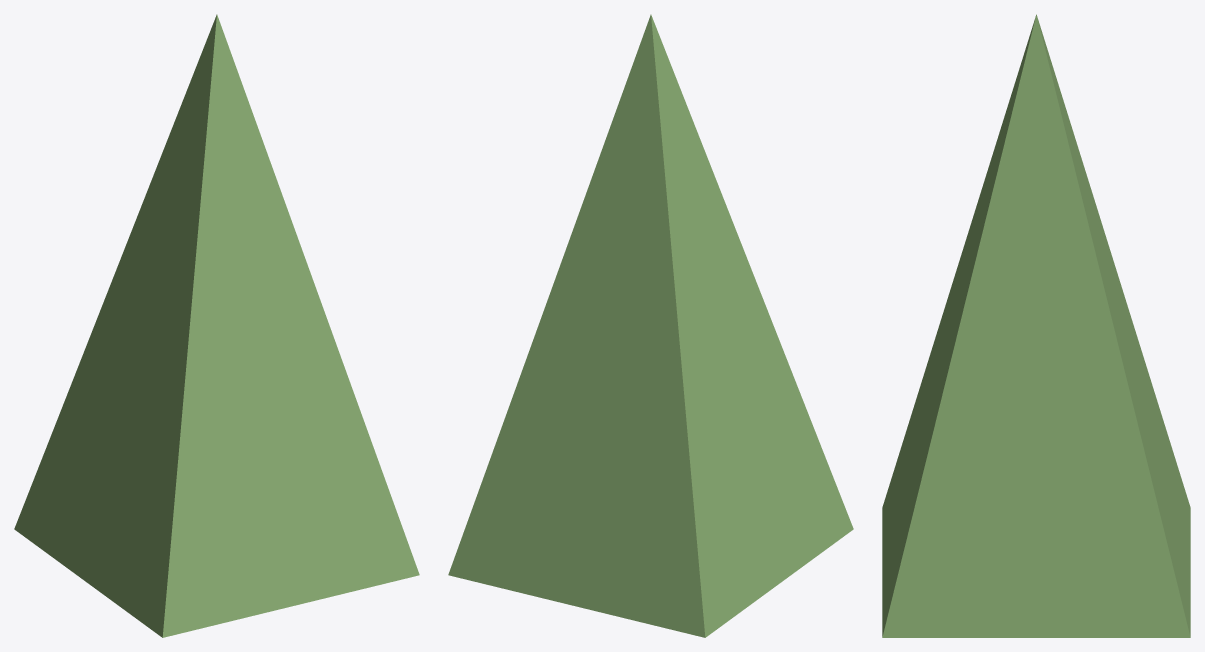
3 renders of one model, left to right at view 1: azimuth 30°, elevation 25°; view 2: azimuth 150°, elevation 25°; view 3: azimuth 270°, elevation 25°, orthographic. The views are drawn at different scales.
Size of the model in its own units: 2 by 4 by 2.
